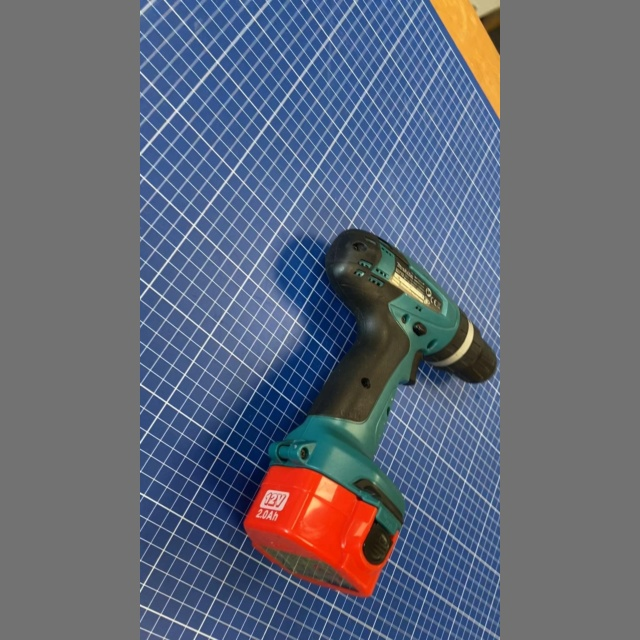drill: (238, 224, 500, 603)
